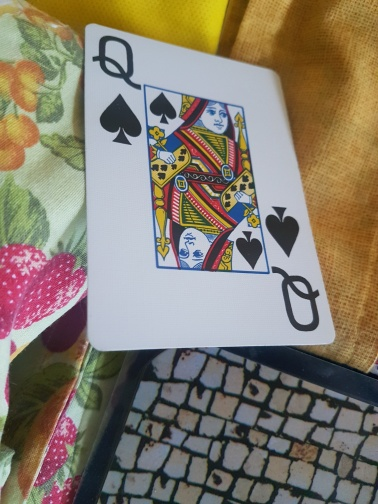queen: (84, 22, 336, 349)
